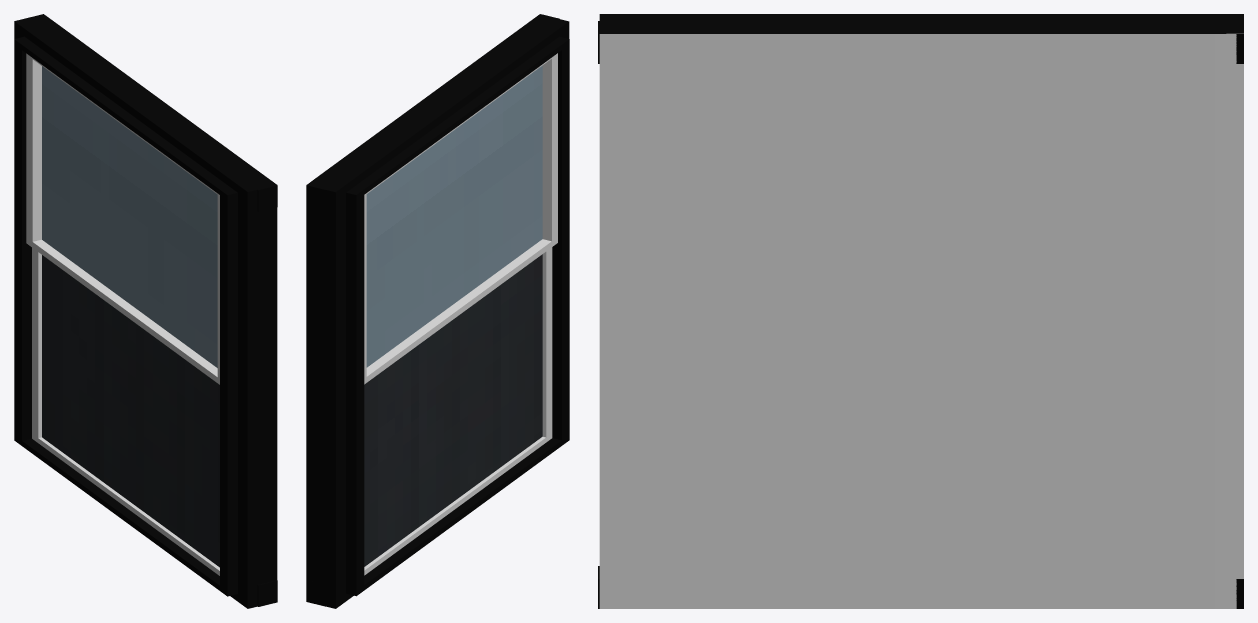
File: window_without_shutters_window.4d564906.gltf
The picture shows the model from 3 angles, left to right: view 1: azimuth 30°, elevation 25°; view 2: azimuth 150°, elevation 25°; view 3: azimuth 270°, elevation 25°; orthographic projection. The views are drawn at different scales.
Visible parts, largest first — view 1: window_glass, trims, Middle; view 2: window_glass, trims, Middle; view 3: window_box, trims.
Part boxes in pixels (<box>): window_glass: <box>42,66,219,567</box>; trims: <box>14,14,277,608</box>; Middle: <box>26,53,219,575</box>; window_glass: <box>364,65,542,566</box>; trims: <box>306,14,569,608</box>; Middle: <box>364,53,557,575</box>; window_box: <box>599,33,1243,608</box>; trims: <box>598,14,1243,608</box>.
Bounding box in the file's own units: 0.5025 × 5 × 5.09.
5 materials, 2 textured.
